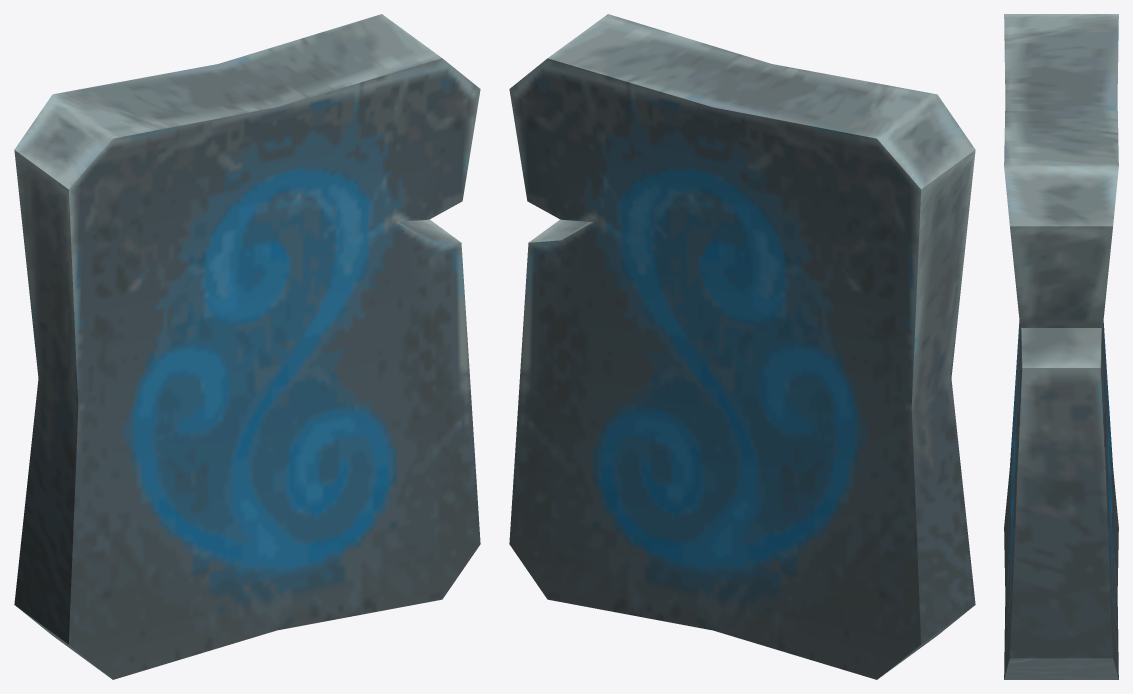
The model's file is stemple_blue_glyph_bc241b1f.glb.
The picture shows the model from 3 angles, left to right: view 1: azimuth 30°, elevation 25°; view 2: azimuth 150°, elevation 25°; view 3: azimuth 270°, elevation 25°; orthographic projection. The views are drawn at different scales.
Bounding box in the file's own units: 0.5859 × 0.7361 × 0.1492.
1 material, 1 textured.
